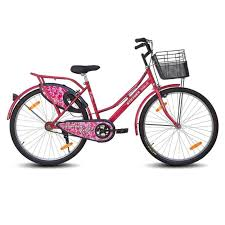Cycle: (5, 20, 217, 174)
